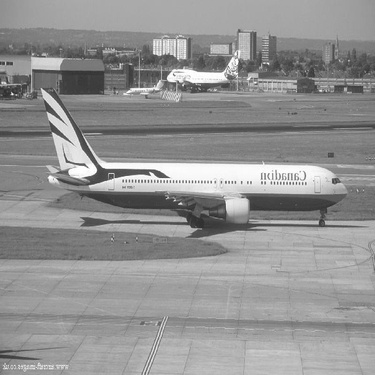airplane: (32, 73, 354, 245), (156, 46, 245, 100), (115, 65, 169, 104)
